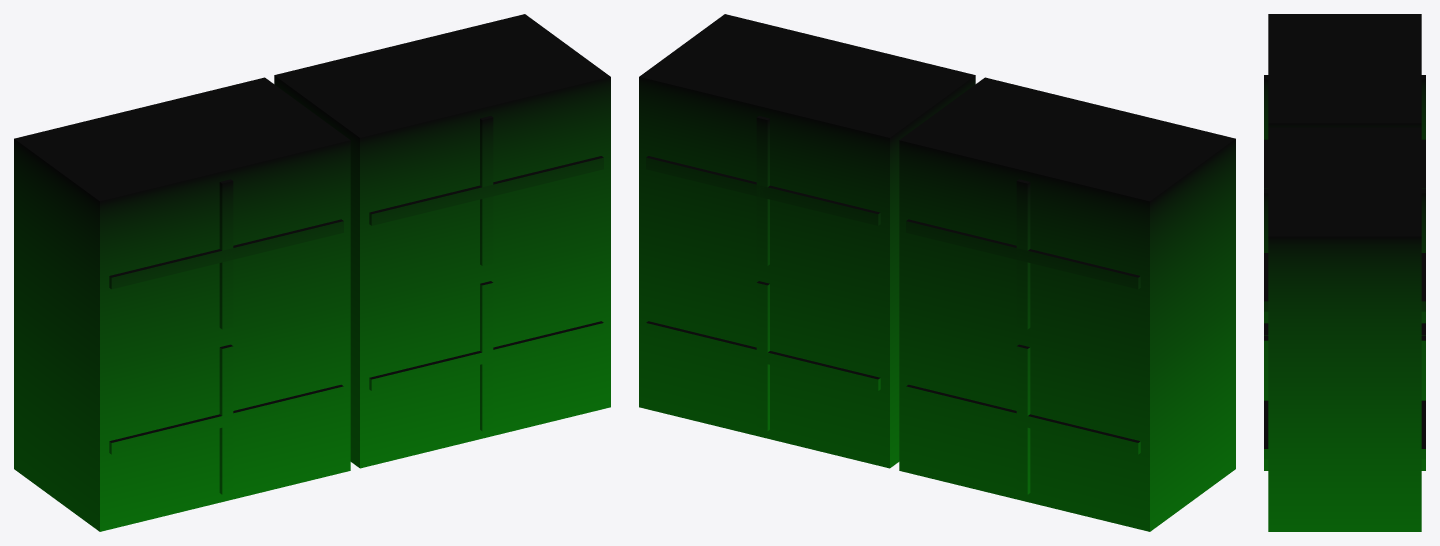
Rendered from woodencrates.glb.
3 views of the same model, side by side, from view 1: azimuth 30°, elevation 25°; view 2: azimuth 150°, elevation 25°; view 3: azimuth 270°, elevation 25° (orthographic). The views are drawn at different scales.
Parts seen in each view (by area): view 1: lod0; view 2: lod0; view 3: lod0.
Part boxes in pixels (x1,y1,x2,y2): lod0: (14, 14, 610, 531); lod0: (639, 14, 1235, 531); lod0: (1264, 14, 1425, 531).
Size of what is drawn, in the model's own units: 5.5 by 3.4 by 1.69.
